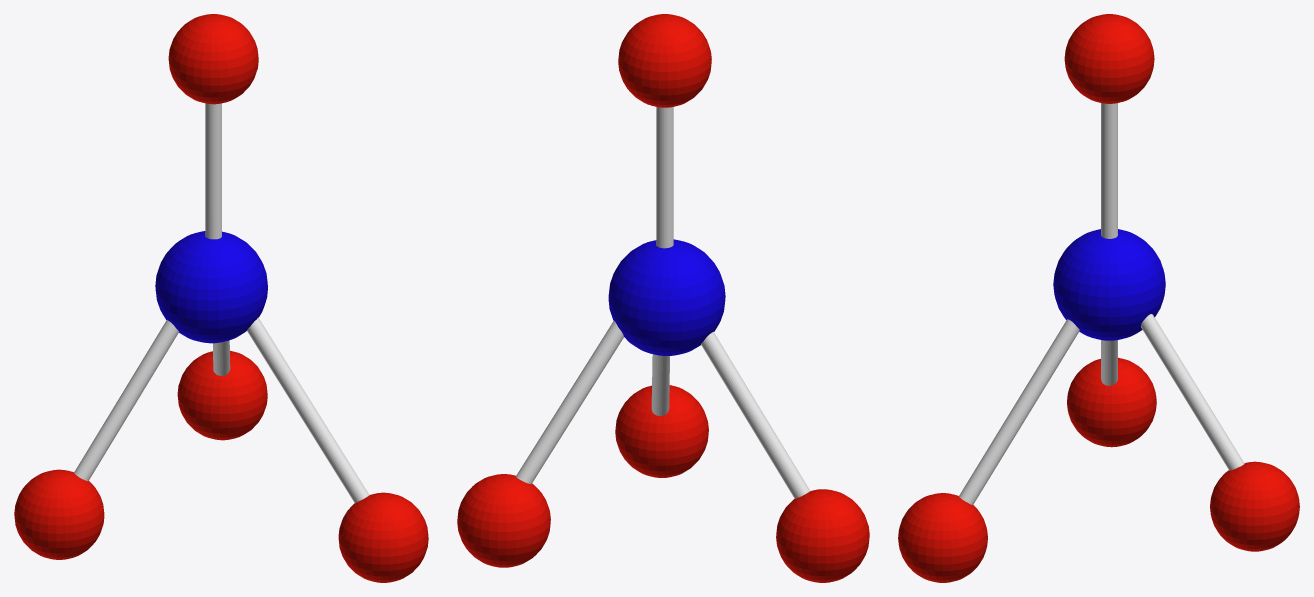
The picture shows the model from 3 angles, left to right: view 1: azimuth 30°, elevation 25°; view 2: azimuth 150°, elevation 25°; view 3: azimuth 270°, elevation 25°; orthographic projection. The views are drawn at different scales.
Parts seen in each view (by area): view 1: Sphere, Sphere.004, Sphere.002, Sphere.001, Sphere.003, Cylinder.002, Cylinder, Cylinder.003, Cylinder.001; view 2: Sphere, Sphere.004, Sphere.001, Sphere.003, Sphere.002, Cylinder, Cylinder.001, Cylinder.003, Cylinder.002; view 3: Sphere, Sphere.004, Sphere.003, Sphere.002, Sphere.001, Cylinder.002, Cylinder.001, Cylinder.003, Cylinder.
Boxes of the visible parts, bbox=[...] form: Sphere: bbox=[155, 231, 267, 343]; Sphere.004: bbox=[168, 14, 258, 104]; Sphere.002: bbox=[338, 492, 428, 582]; Sphere.001: bbox=[14, 469, 104, 559]; Sphere.003: bbox=[177, 350, 267, 440]; Cylinder.002: bbox=[247, 317, 369, 503]; Cylinder: bbox=[74, 320, 178, 481]; Cylinder.003: bbox=[205, 103, 221, 239]; Cylinder.001: bbox=[213, 340, 230, 375]; Sphere: bbox=[608, 239, 725, 355]; Sphere.004: bbox=[618, 14, 711, 107]; Sphere.001: bbox=[776, 489, 869, 582]; Sphere.003: bbox=[457, 474, 550, 567]; Sphere.002: bbox=[615, 385, 708, 477]; Cylinder: bbox=[701, 331, 810, 498]; Cylinder.001: bbox=[516, 321, 623, 484]; Cylinder.003: bbox=[656, 107, 673, 248]; Cylinder.002: bbox=[651, 354, 669, 416]; Sphere: bbox=[1053, 229, 1165, 340]; Sphere.004: bbox=[1064, 14, 1154, 103]; Sphere.003: bbox=[1210, 461, 1299, 551]; Sphere.002: bbox=[898, 493, 987, 582]; Sphere.001: bbox=[1067, 357, 1156, 447]; Cylinder.002: bbox=[959, 319, 1079, 504]; Cylinder.001: bbox=[1141, 314, 1244, 470]; Cylinder.003: bbox=[1101, 103, 1117, 238]; Cylinder: bbox=[1101, 340, 1117, 385].
Size of the model in its own units: 6.5 by 10.17 by 7.14.
